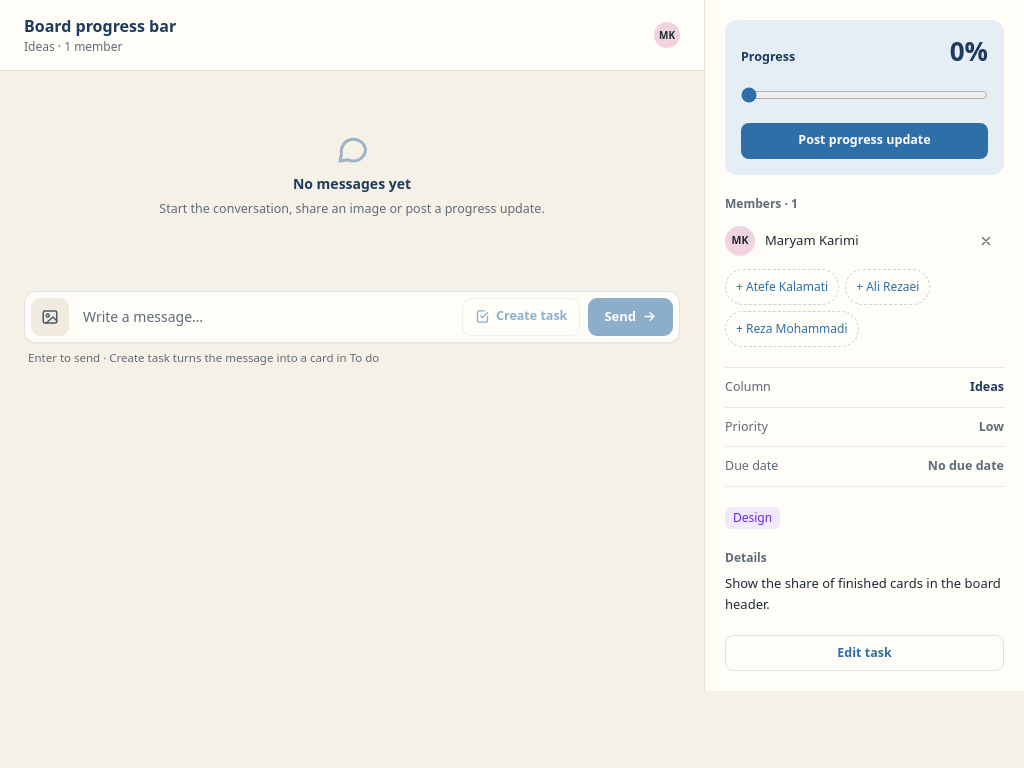
Test: Chat › posts progress and changes members from the panel
Set the slider named "Progress" to "40" at (841, 95), box [741, 77, 988, 113]
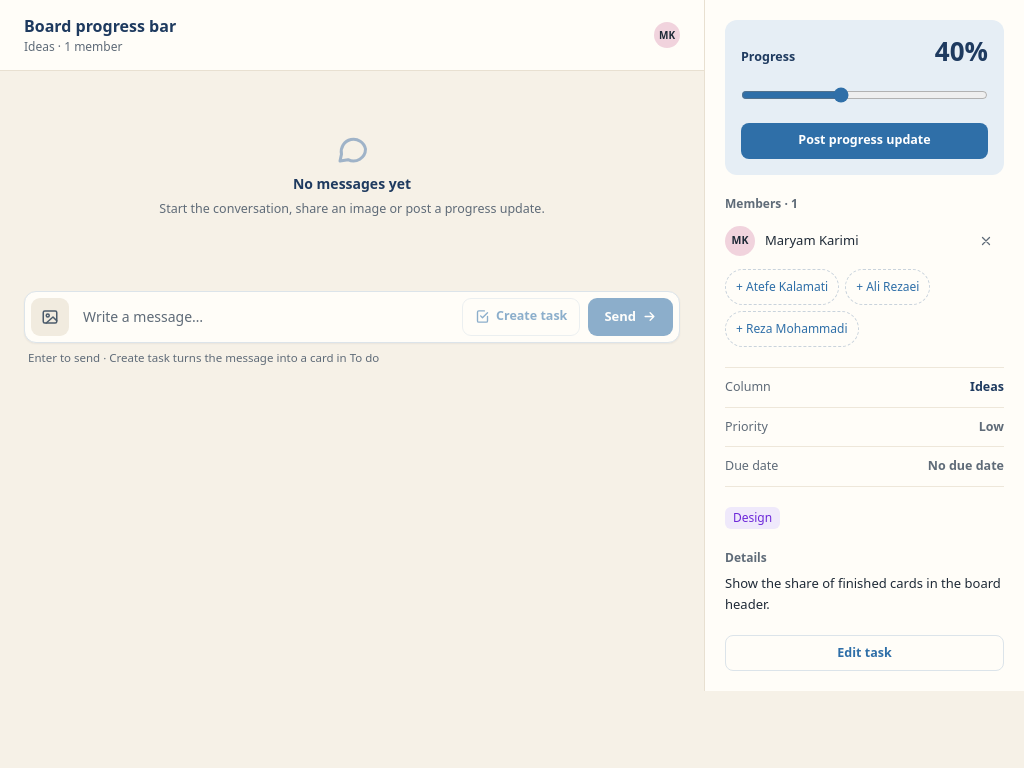
Result: the text with test id "panel-progress" reads "40%" at [935, 33, 988, 69]
Click the button "Post progress update" at (864, 141), box [741, 123, 988, 159]
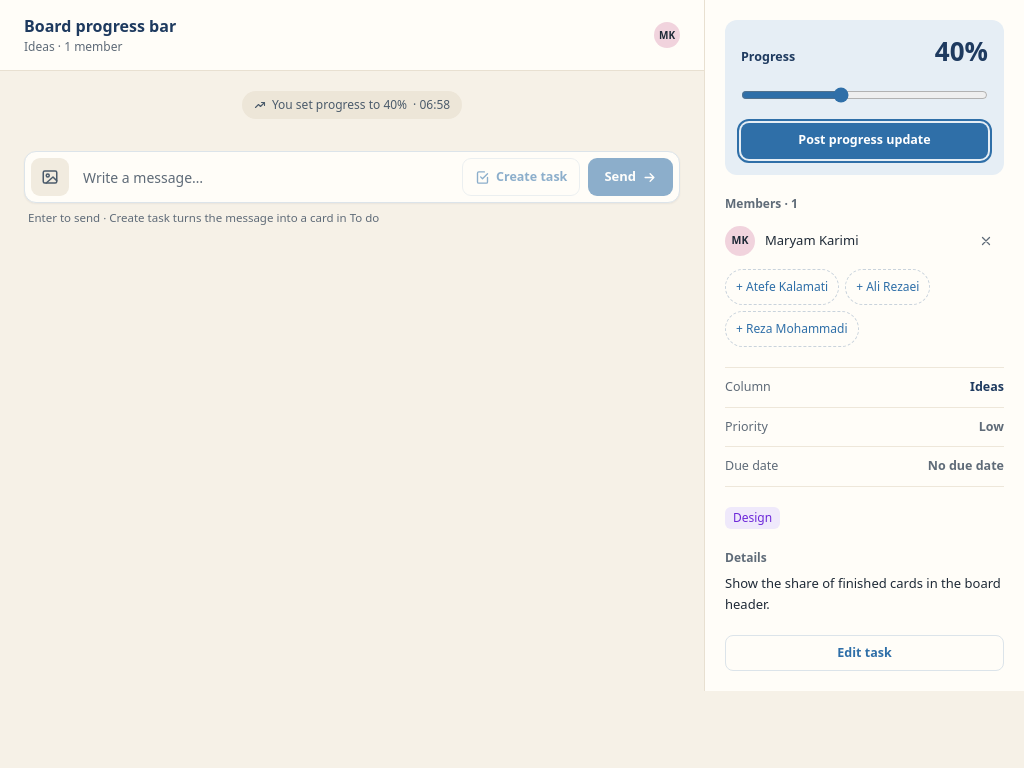
Result: the element with test id "event" shows "You set progress to 40%" at [272, 96, 407, 113]
Click the button "+ Ali Rezaei" at (888, 287), box [845, 269, 930, 305]
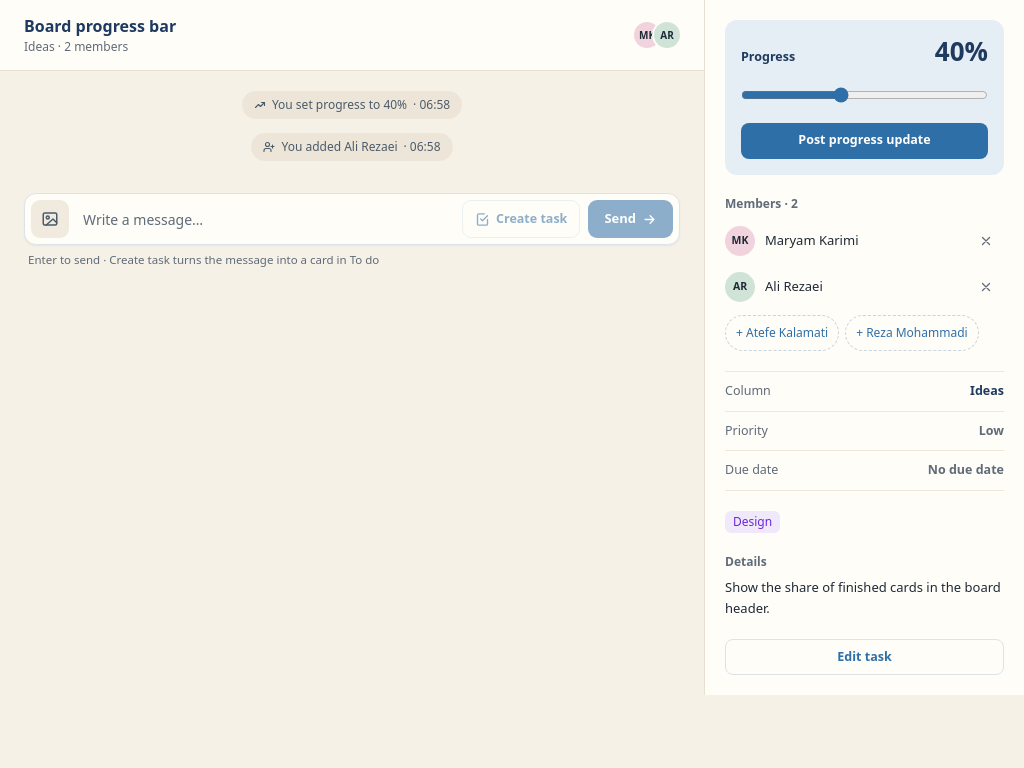
Result: the number of elements with test id "panel-member" is 2 at [725, 223, 1004, 259]; [725, 269, 1004, 305]
Click the button named "Remove Maryam Karimi" at (986, 241), box [968, 223, 1004, 259]
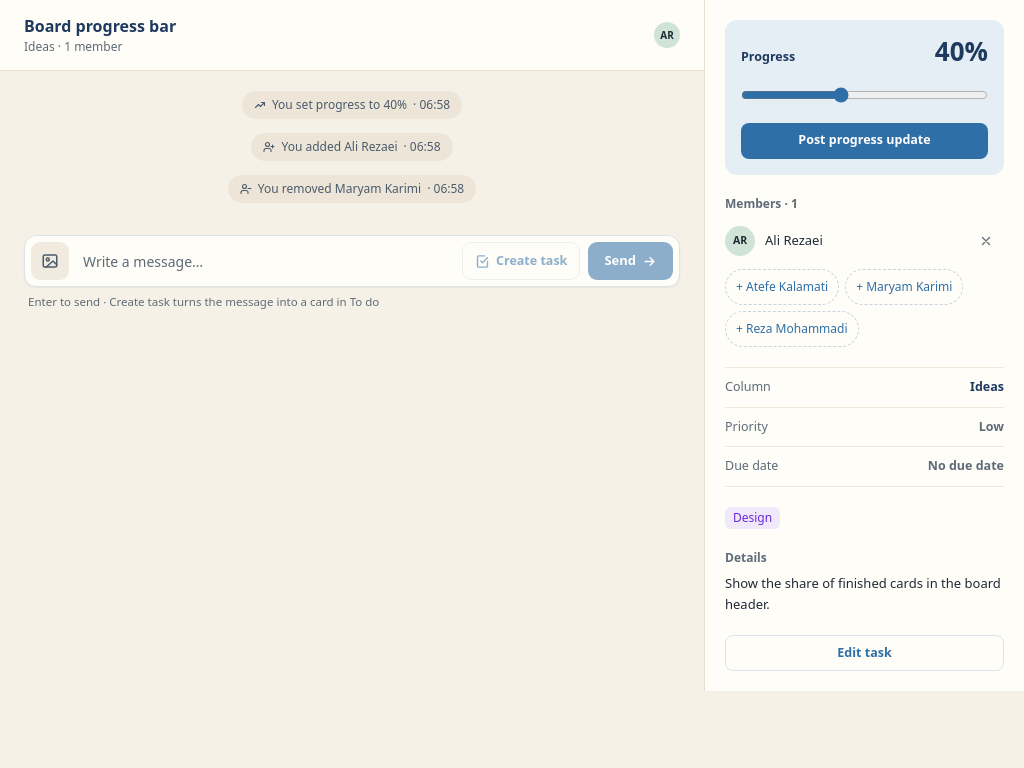
Result: the number of elements with test id "panel-member" is 1 at [725, 223, 1004, 259]
Result: the number of elements with test id "event" is 3 at [242, 91, 462, 119]; [251, 133, 452, 161]; [228, 175, 476, 203]
